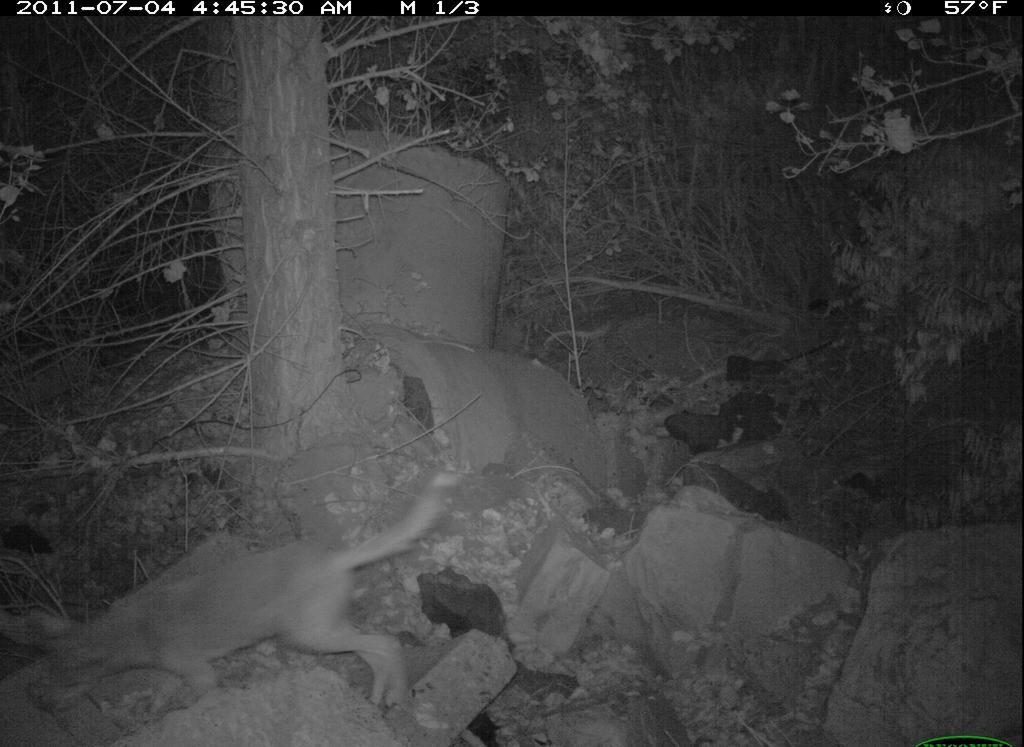coyote: (21, 465, 477, 736)
